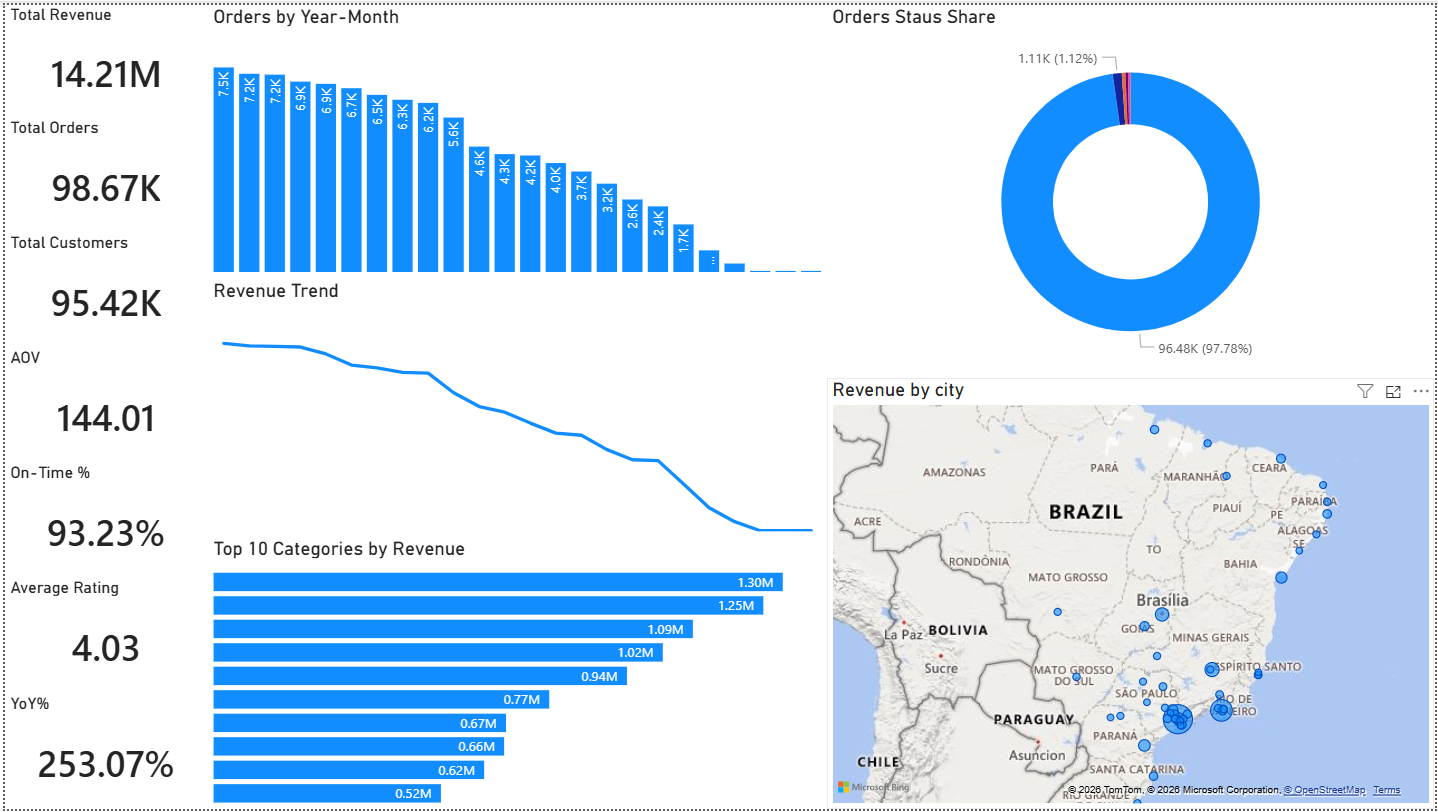

The dashboard page shown, as its layout file describes it:
{"tool":"powerbi","page":{"name":"Overview(Executive Dashboard)","canvas":[1280,720],"ordinal":0},"visuals":[{"type":"cardVisual","title":"Total Revenue","fields":{"Data":["public bi_fact_sales.Revenue"]},"box":[0,0,181.9,101.2],"z":0},{"type":"cardVisual","title":"Total Orders","fields":{"Data":["public bi_fact_sales.Orders"]},"box":[0,101.2,181.9,103.1],"z":1000},{"type":"cardVisual","title":"Total Customers","fields":{"Data":["public bi_fact_sales.Customers"]},"box":[0,204.3,181.9,103.1],"z":2000},{"type":"cardVisual","title":"AOV","fields":{"Data":["public bi_fact_sales.AOV"]},"box":[0,307.4,181.9,103.1],"z":3000},{"type":"cardVisual","title":"On-Time %","fields":{"Data":["public bi_fact_sales.On-time %"]},"box":[0,410.5,181.9,103.1],"z":4000},{"type":"cardVisual","title":"Average Rating","fields":{"Data":["public bi_fact_sales.Avg Rating"]},"box":[0,513.6,181.9,103.1],"z":5000},{"type":"cardVisual","title":"YoY%","fields":{"Data":["public bi_fact_sales.YoY %"]},"box":[0,616.7,181.9,103.1],"z":6000},{"type":"lineChart","title":"Revenue Trend","fields":{"Category":["DimDate.Year-Month"],"Y":["public bi_fact_sales.Revenue"]},"box":[181.9,245.1,554.4,231.5],"z":7000},{"type":"columnChart","title":"Orders by Year-Month","fields":{"Y":["public bi_fact_sales.Orders"],"Category":["DimDate.Year-Month"]},"box":[181.9,0,554.4,245.1],"z":8000},{"type":"barChart","title":"Top 10 Categories by Revenue","fields":{"Category":["public bi_fact_sales.category"],"Y":["public bi_fact_sales.Revenue"]},"box":[181.9,476.6,554.4,243.2],"z":9000},{"type":"map","title":"Revenue by city","fields":{"Size":["public bi_fact_sales.Revenue"],"Category":["public bi_fact_sales.customer_city"]},"box":[736.3,333.6,543.7,386.1],"z":10000},{"type":"donutChart","title":"Orders Staus Share","fields":{"Y":["public bi_fact_sales.Orders"],"Category":["public bi_fact_sales.order_status"]},"box":[736.3,0,543.7,333.6],"z":11000}]}

Visuals, with their boxes in screenshot pixels (x1, y1, x2, y2), scaled from the page's 1280x720 canvas onto the 1438x812 screenshot:
"Total Revenue" cardVisual: <box>0,0,204,114</box>
"Total Orders" cardVisual: <box>0,114,204,230</box>
"Total Customers" cardVisual: <box>0,230,204,347</box>
"AOV" cardVisual: <box>0,347,204,463</box>
"On-Time %" cardVisual: <box>0,463,204,579</box>
"Average Rating" cardVisual: <box>0,579,204,696</box>
"YoY%" cardVisual: <box>0,696,204,811</box>
"Revenue Trend" lineChart: <box>204,276,827,537</box>
"Orders by Year-Month" columnChart: <box>204,0,827,276</box>
"Top 10 Categories by Revenue" barChart: <box>204,537,827,811</box>
"Revenue by city" map: <box>827,376,1437,811</box>
"Orders Staus Share" donutChart: <box>827,0,1437,376</box>
